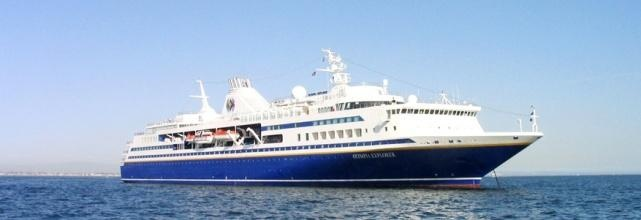youlun: (104, 46, 543, 186)
